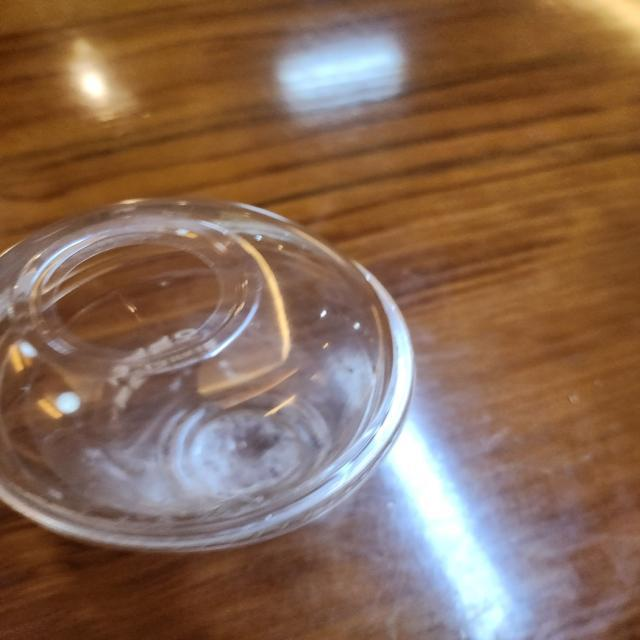plastic_cup_lid: (0, 189, 424, 553)
